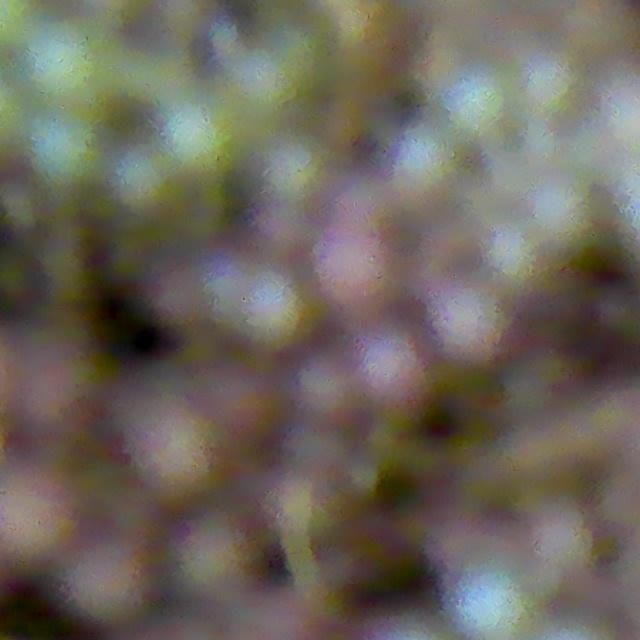SeaGrape: (16, 10, 117, 115), (134, 398, 220, 498), (306, 230, 392, 325), (161, 96, 245, 179), (0, 463, 73, 558), (364, 319, 431, 417), (25, 108, 105, 190), (527, 172, 597, 249), (462, 577, 536, 640), (292, 352, 357, 411)
